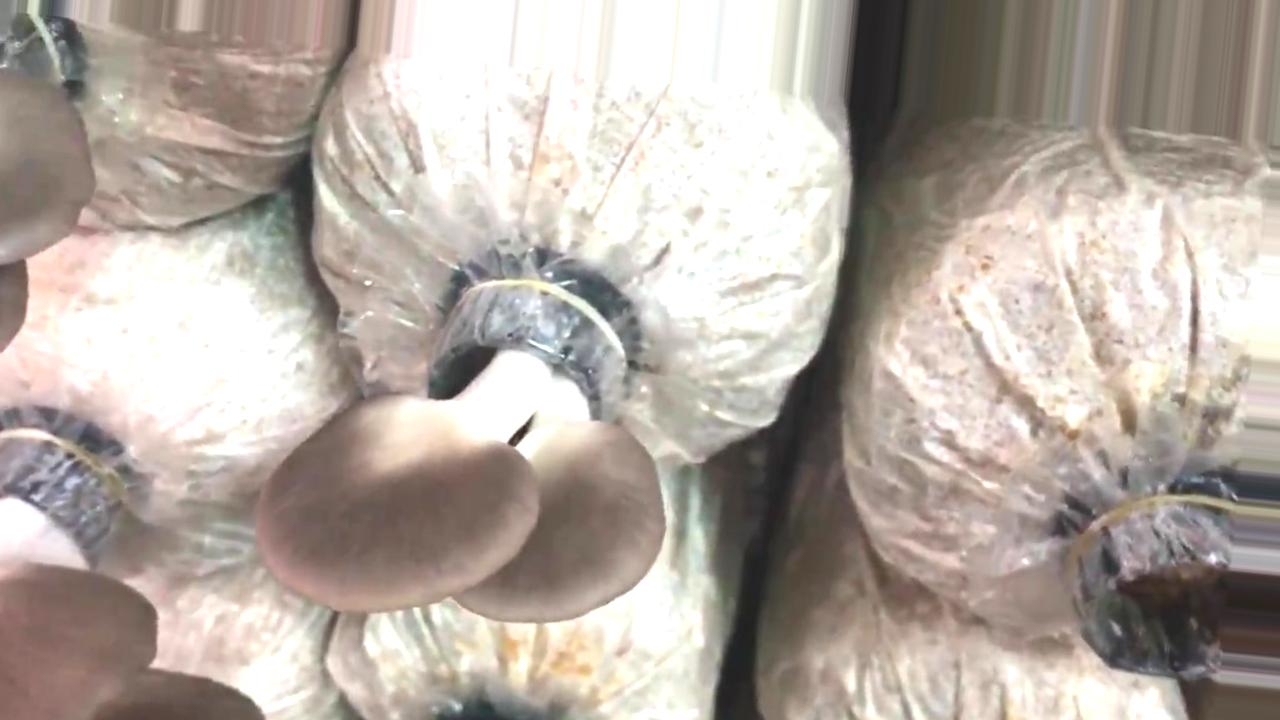nam: (261, 284, 668, 627), (1, 431, 261, 719)
